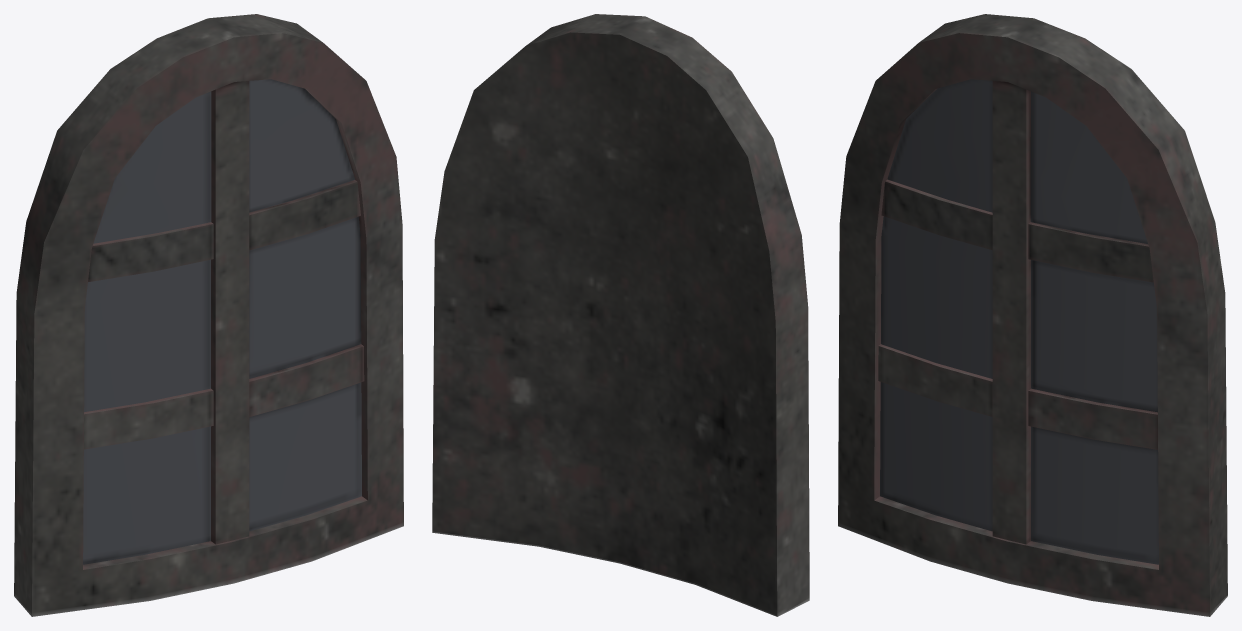
File: sb_obj_outdoor002_DemonsCastle01_window01.fbx
3 views of the same model, side by side, from view 1: azimuth 30°, elevation 25°; view 2: azimuth 150°, elevation 25°; view 3: azimuth 330°, elevation 25° (orthographic). The views are drawn at different scales.
Parts seen in each view (by area): view 1: sb_obj_outdoor002_DemonsCastle01_window01; view 2: sb_obj_outdoor002_DemonsCastle01_window01; view 3: sb_obj_outdoor002_DemonsCastle01_window01.
Part boxes in pixels (x1,y1,x2,y2): sb_obj_outdoor002_DemonsCastle01_window01: (14,14,403,616); sb_obj_outdoor002_DemonsCastle01_window01: (432,14,809,616); sb_obj_outdoor002_DemonsCastle01_window01: (838,14,1227,616).
Size of the model in its own units: 1.11 by 1.56 by 0.2166.
